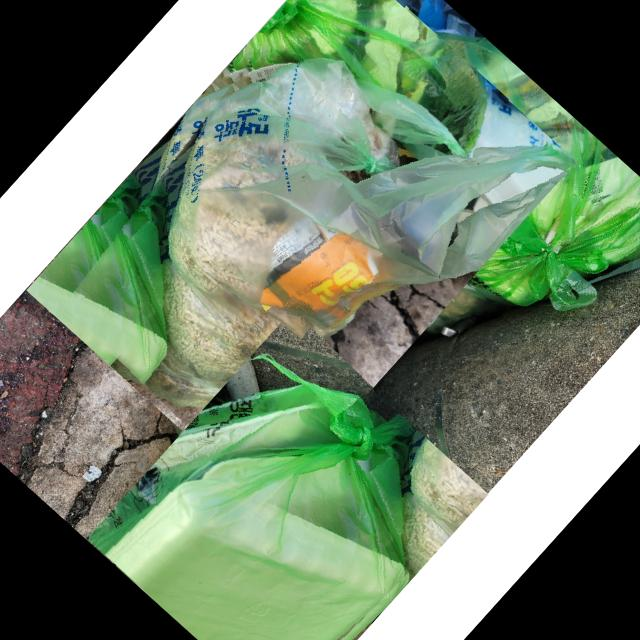general_trashbag: (139, 60, 573, 403), (89, 353, 407, 640), (358, 31, 640, 310)
